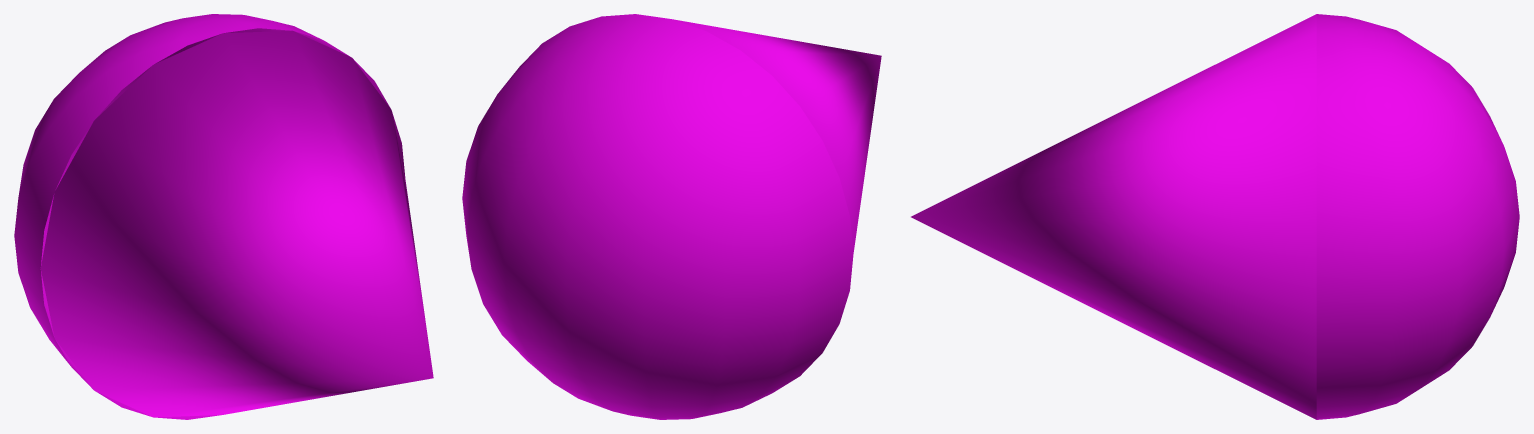
File: Shooter.fbx
3 renders of one model, left to right at view 1: azimuth 30°, elevation 25°; view 2: azimuth 150°, elevation 25°; view 3: azimuth 270°, elevation 25°, orthographic. The views are drawn at different scales.
Parts seen in each view (by area): view 1: Cone; view 2: Cone; view 3: Cone.
Boxes of the visible parts, <box> form: Cone: <box>14,14,433,419</box>; Cone: <box>462,14,881,419</box>; Cone: <box>911,14,1519,419</box>.
Size of the model in its own units: 2 by 2 by 3.
